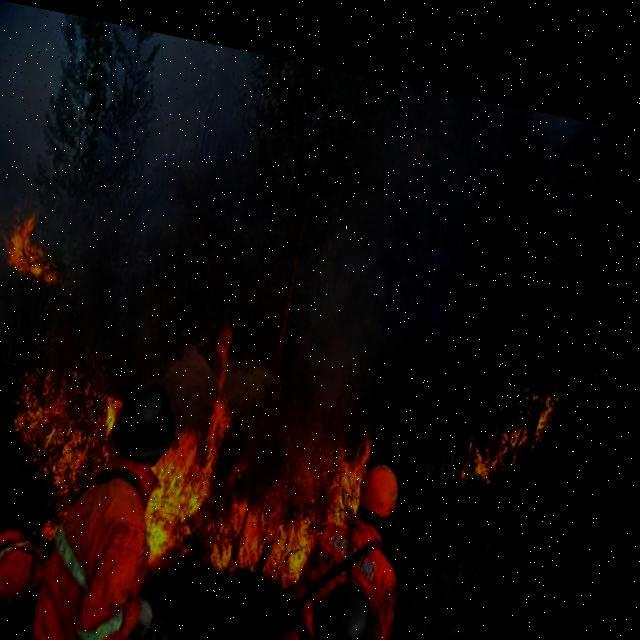Fire: (10, 337, 404, 595), (436, 340, 574, 478), (8, 203, 86, 285)
